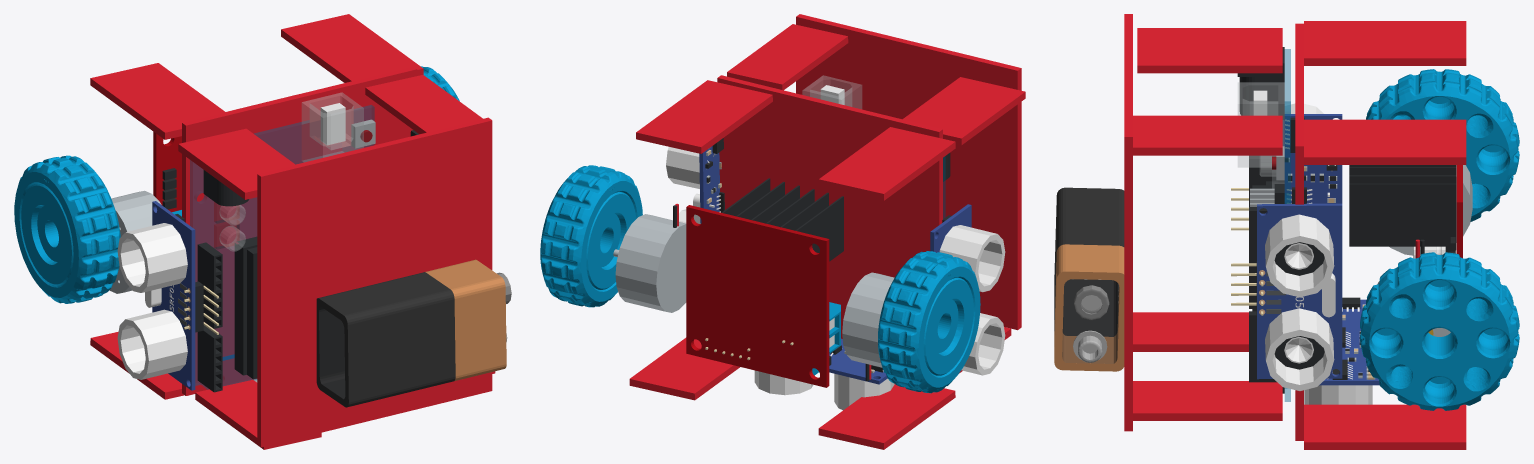
File: tinker.obj
The picture shows the model from 3 angles, left to right: view 1: azimuth 30°, elevation 25°; view 2: azimuth 150°, elevation 25°; view 3: azimuth 270°, elevation 25°; orthographic projection. The views are drawn at different scales.
Visible parts, largest first — view 1: obj_18, obj_19, obj_0, obj_10, obj_3, obj_13, obj_7, obj_9, obj_14, obj_17, obj_15, obj_2 (+2 smaller); view 2: obj_2, obj_10, obj_18, obj_3, obj_4, obj_1, obj_7, obj_9, obj_13, obj_6, obj_14, obj_17 (+5 smaller); view 3: obj_4, obj_12, obj_19, obj_3, obj_2, obj_9, obj_7, obj_8, obj_14, obj_0, obj_17, obj_16 (+6 smaller).
Part boxes in pixels (box(x1,y1,x2,y2)): obj_18: box(257, 117, 492, 447); obj_19: box(316, 259, 511, 407); obj_0: box(190, 92, 375, 392); obj_10: box(182, 66, 417, 395); obj_3: box(14, 155, 120, 303); obj_13: box(117, 201, 218, 390); obj_7: box(90, 63, 225, 139); obj_9: box(281, 14, 423, 82); obj_14: box(178, 128, 294, 199); obj_17: box(365, 75, 482, 134); obj_15: box(195, 380, 321, 449); obj_2: box(153, 95, 293, 216); obj_2: box(686, 178, 843, 387); obj_10: box(717, 75, 942, 338); obj_18: box(796, 14, 1021, 330); obj_3: box(878, 251, 980, 393); obj_4: box(540, 165, 642, 307); obj_1: box(613, 203, 686, 312); obj_7: box(818, 127, 955, 200); obj_9: box(636, 80, 772, 153); obj_13: box(930, 204, 1005, 375); obj_6: box(818, 384, 955, 449); obj_14: box(903, 77, 1025, 145); obj_17: box(727, 24, 848, 90); obj_4: box(1360, 252, 1519, 410); obj_12: box(1231, 203, 1342, 390); obj_19: box(1054, 187, 1124, 371); obj_3: box(1366, 69, 1519, 221); obj_2: box(1349, 165, 1462, 258); obj_9: box(1304, 119, 1466, 164); obj_7: box(1304, 21, 1466, 65); obj_8: box(1304, 404, 1466, 449); obj_14: box(1137, 28, 1282, 73); obj_0: box(1237, 47, 1290, 401); obj_17: box(1133, 115, 1282, 155); obj_16: box(1133, 381, 1282, 420).
Size of the model in its own units: 116 by 82.06 by 109.
